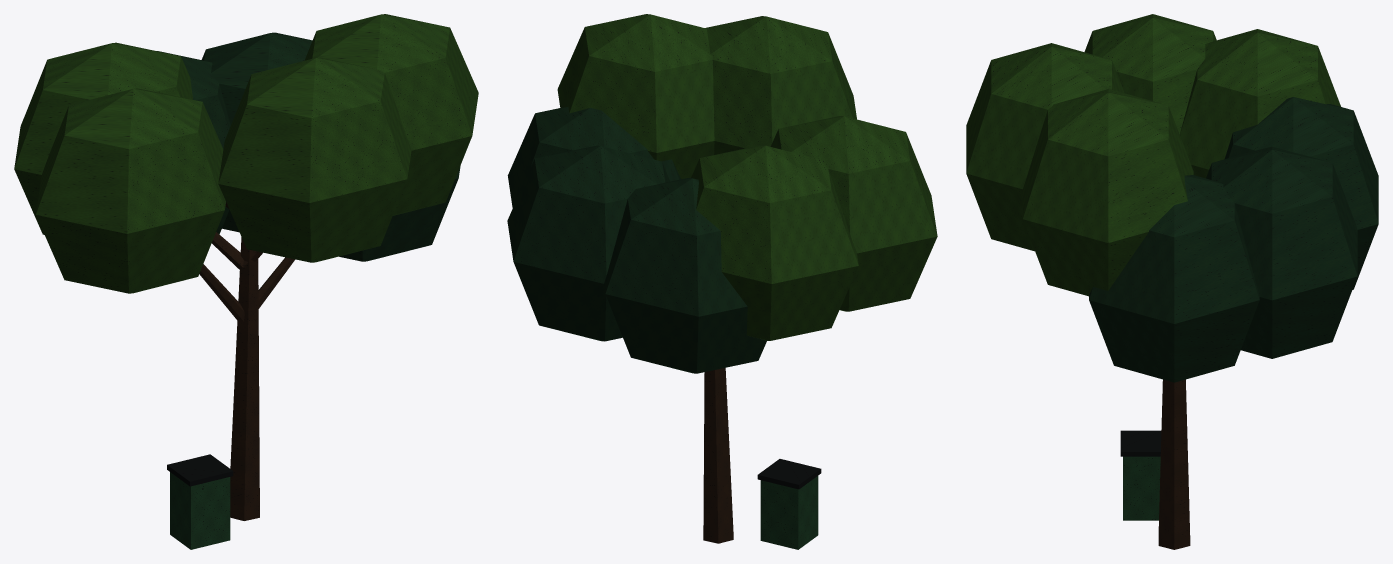
File: PROP-B2791134C201_lod2.glb
The picture shows the model from 3 angles, left to right: view 1: azimuth 30°, elevation 25°; view 2: azimuth 150°, elevation 25°; view 3: azimuth 270°, elevation 25°; orthographic projection. The views are drawn at different scales.
Visible parts, largest first — view 1: leaf_crown.093, leaf_crown.092, trunk.084, waste_container.001, branch.055, bin_lid.001; view 2: leaf_crown.093, leaf_crown.092, trunk.084, waste_container.001, bin_lid.001; view 3: leaf_crown.093, leaf_crown.092, trunk.084, waste_container.001, bin_lid.001.
Part boxes in pixels (left/top/right/bottom): leaf_crown.093: left=14, top=14, right=478, bottom=293; leaf_crown.092: left=157, top=32, right=460, bottom=261; trunk.084: left=230, top=237, right=259, bottom=520; waste_container.001: left=170, top=472, right=230, bottom=549; branch.055: left=199, top=202, right=295, bottom=321; bin_lid.001: left=167, top=454, right=233, bottom=486; leaf_crown.093: left=557, top=14, right=937, bottom=340; leaf_crown.092: left=507, top=107, right=766, bottom=373; trunk.084: left=703, top=368, right=733, bottom=543; waste_container.001: left=760, top=476, right=818, bottom=549; bin_lid.001: left=757, top=459, right=821, bottom=489; leaf_crown.093: left=966, top=14, right=1340, bottom=296; leaf_crown.092: left=1089, top=97, right=1378, bottom=382; trunk.084: left=1158, top=379, right=1190, bottom=549; waste_container.001: left=1123, top=456, right=1160, bottom=520; bin_lid.001: left=1120, top=430, right=1161, bottom=456.
Bounding box in the file's own units: 6.69 × 7.24 × 5.41.
5 materials, 5 textured.
